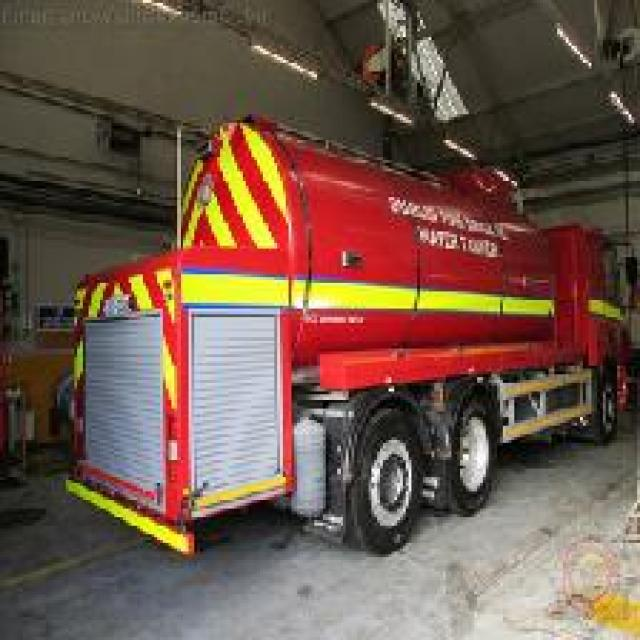Fire-truck: (60, 112, 634, 557)
